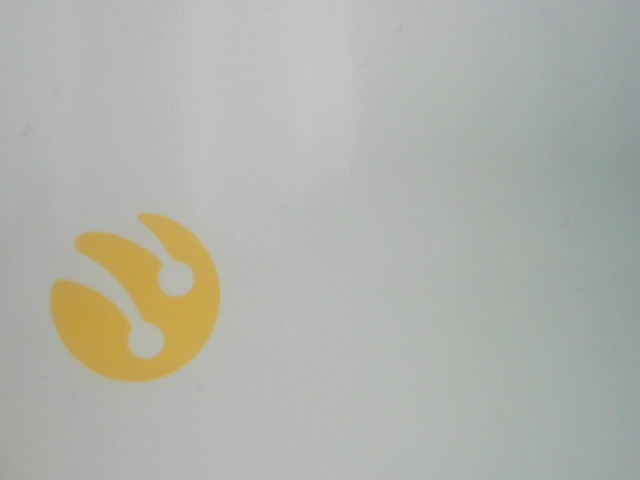AV_H3600Yellow: (31, 211, 238, 384)
